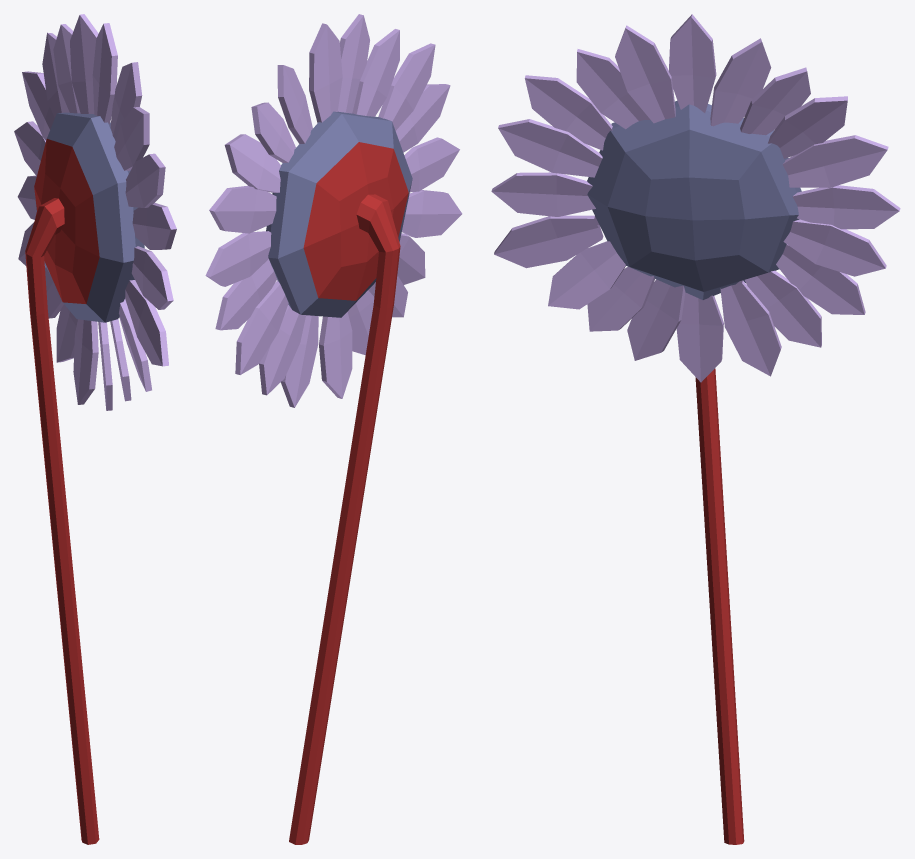
File: Livingroom2_Sunflower.fbx
3 renders of one model, left to right at view 1: azimuth 30°, elevation 25°; view 2: azimuth 150°, elevation 25°; view 3: azimuth 270°, elevation 25°, orthographic. The views are drawn at different scales.
Parts seen in each view (by area): view 1: Livingroom2_Sunflower; view 2: Livingroom2_Sunflower; view 3: Livingroom2_Sunflower.
Part boxes in pixels (x1,y1,x2,y2): Livingroom2_Sunflower: (14,14,176,844); Livingroom2_Sunflower: (205,14,462,844); Livingroom2_Sunflower: (491,14,900,844).
Size of the model in its own units: 8.08 by 61.88 by 27.82.
